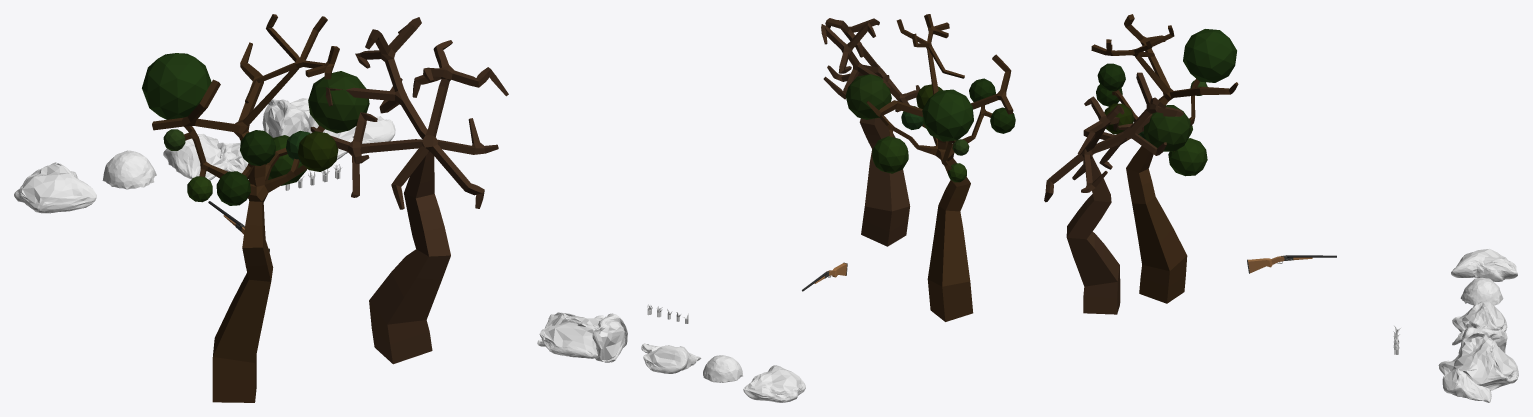
File: Assets.fbx
The picture shows the model from 3 angles, left to right: view 1: azimuth 30°, elevation 25°; view 2: azimuth 150°, elevation 25°; view 3: azimuth 270°, elevation 25°; orthographic projection. The views are drawn at different scales.
Parts seen in each view (by area): view 1: Tree1, Tree2, Icosphere.006, Rock2, Rock3, Icosphere.001, Rock4, Rock1, Icosphere, Icosphere.005, Icosphere.004, Icosphere.002 (+1 smaller); view 2: Tree2, Tree1, Rock3, Icosphere.006, Rock2, Icosphere.001, Rock4, Icosphere.002, Rock1, Icosphere.004, Icosphere.005; view 3: Tree1, Tree2, Rock3, Icosphere.006, Rock2, Icosphere.001, Rock4, Icosphere.002, Rock1, Icosphere.005, Icosphere.
Boxes of the visible parts, x1=… form: Tree1: x1=310, y1=17, x2=508, y2=364; Tree2: x1=152, y1=14, x2=339, y2=402; Icosphere.006: x1=142, y1=53, x2=211, y2=119; Rock2: x1=14, y1=162, x2=96, y2=213; Rock3: x1=262, y1=98, x2=395, y2=159; Icosphere.001: x1=308, y1=71, x2=369, y2=133; Rock4: x1=163, y1=134, x2=248, y2=180; Rock1: x1=102, y1=150, x2=156, y2=189; Icosphere: x1=298, y1=131, x2=338, y2=171; Icosphere.005: x1=240, y1=130, x2=275, y2=165; Icosphere.004: x1=216, y1=171, x2=250, y2=205; Icosphere.002: x1=265, y1=135, x2=306, y2=185; Tree2: x1=866, y1=14, x2=1013, y2=321; Tree1: x1=821, y1=18, x2=920, y2=246; Rock3: x1=537, y1=312, x2=627, y2=362; Icosphere.006: x1=922, y1=89, x2=973, y2=141; Rock2: x1=743, y1=365, x2=805, y2=402; Icosphere.001: x1=845, y1=74, x2=891, y2=119; Rock4: x1=641, y1=343, x2=701, y2=373; Icosphere.002: x1=872, y1=136, x2=908, y2=173; Rock1: x1=703, y1=355, x2=742, y2=382; Icosphere.004: x1=990, y1=107, x2=1015, y2=133; Icosphere.005: x1=969, y1=78, x2=995, y2=101; Tree1: x1=1044, y1=72, x2=1184, y2=314; Tree2: x1=1091, y1=14, x2=1238, y2=303; Rock3: x1=1438, y1=327, x2=1518, y2=402; Icosphere.006: x1=1183, y1=29, x2=1236, y2=82; Rock2: x1=1451, y1=249, x2=1517, y2=281; Icosphere.001: x1=1144, y1=105, x2=1190, y2=151; Rock4: x1=1452, y1=300, x2=1507, y2=345; Icosphere.002: x1=1168, y1=138, x2=1207, y2=176; Rock1: x1=1460, y1=277, x2=1503, y2=305; Icosphere.005: x1=1097, y1=63, x2=1125, y2=90; Icosphere: x1=1104, y1=103, x2=1134, y2=134.
Bounding box in the file's own units: 1107 × 903 × 1358.
